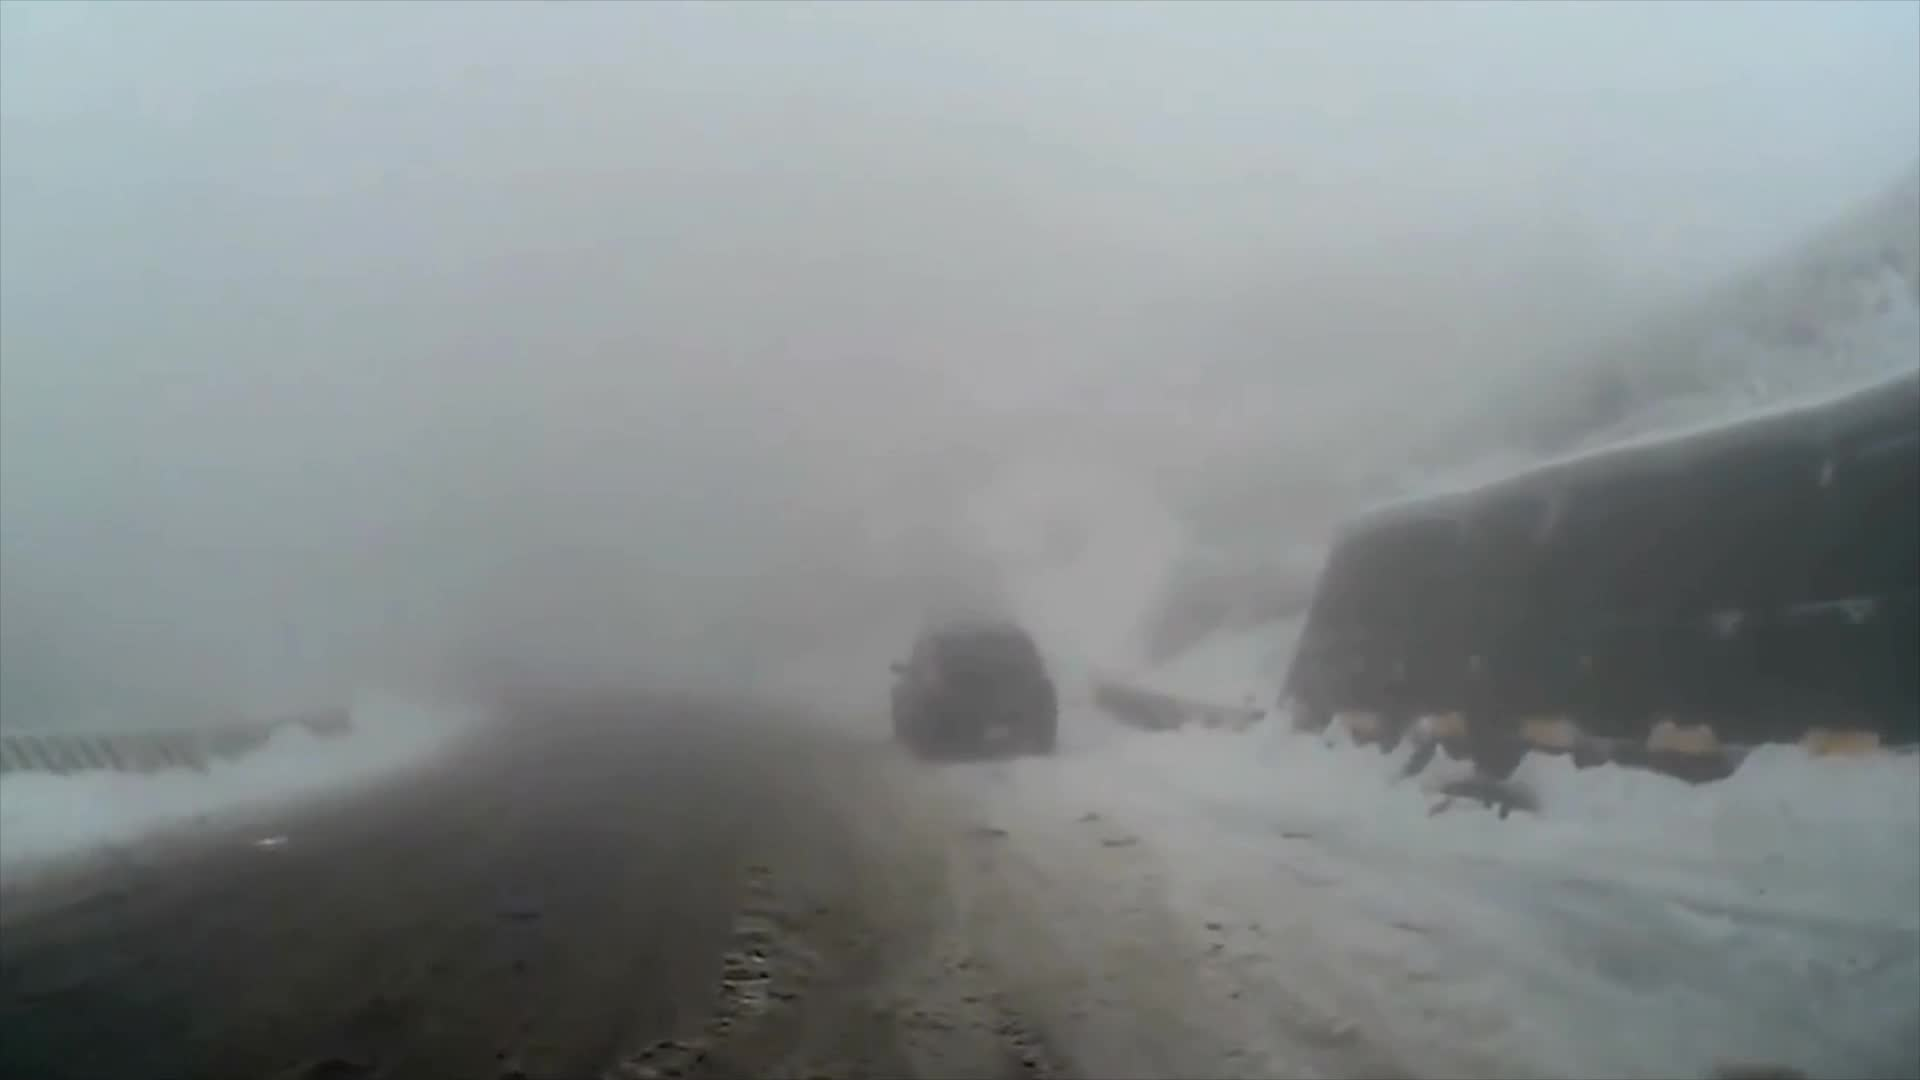vehicle: (881, 613, 1054, 758)
